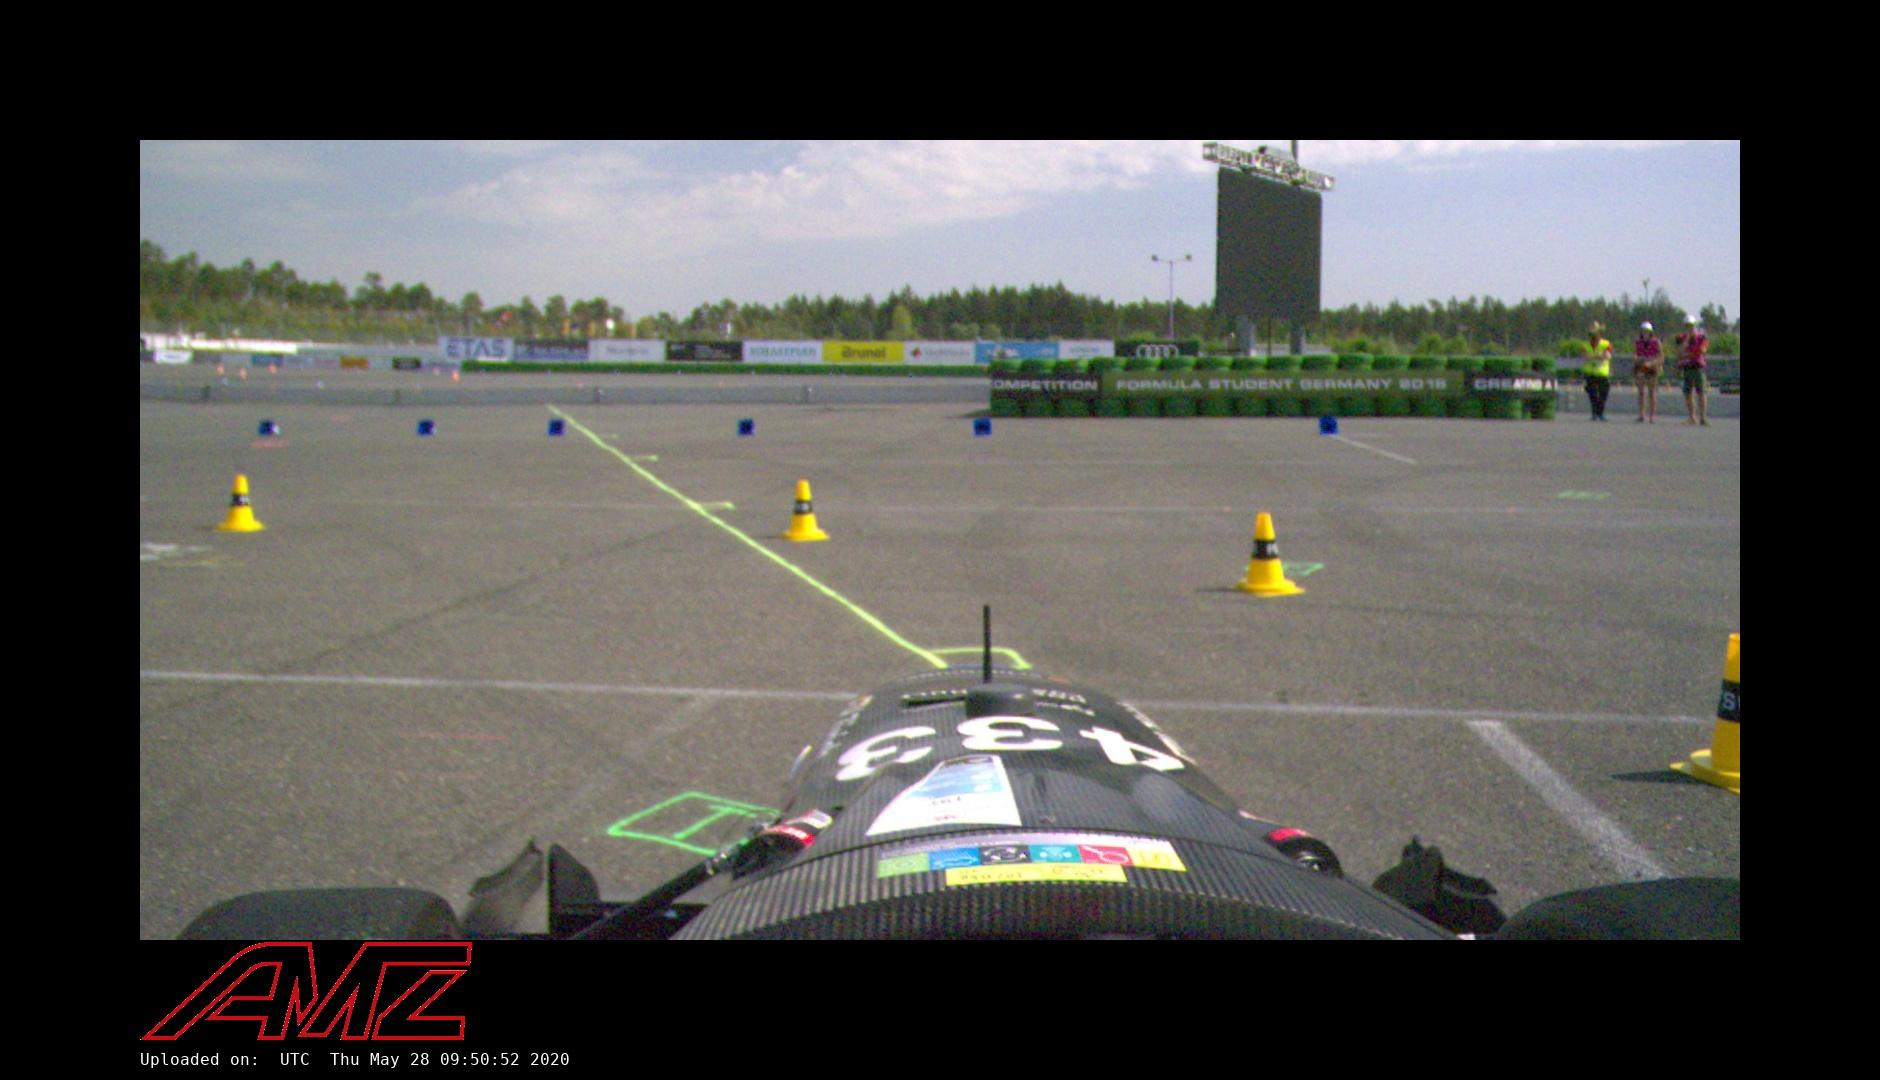blue_cone: (256, 419, 281, 435)
yellow_cone: (1675, 632, 1739, 794), (1232, 512, 1304, 597), (779, 479, 832, 543), (214, 474, 265, 534)
